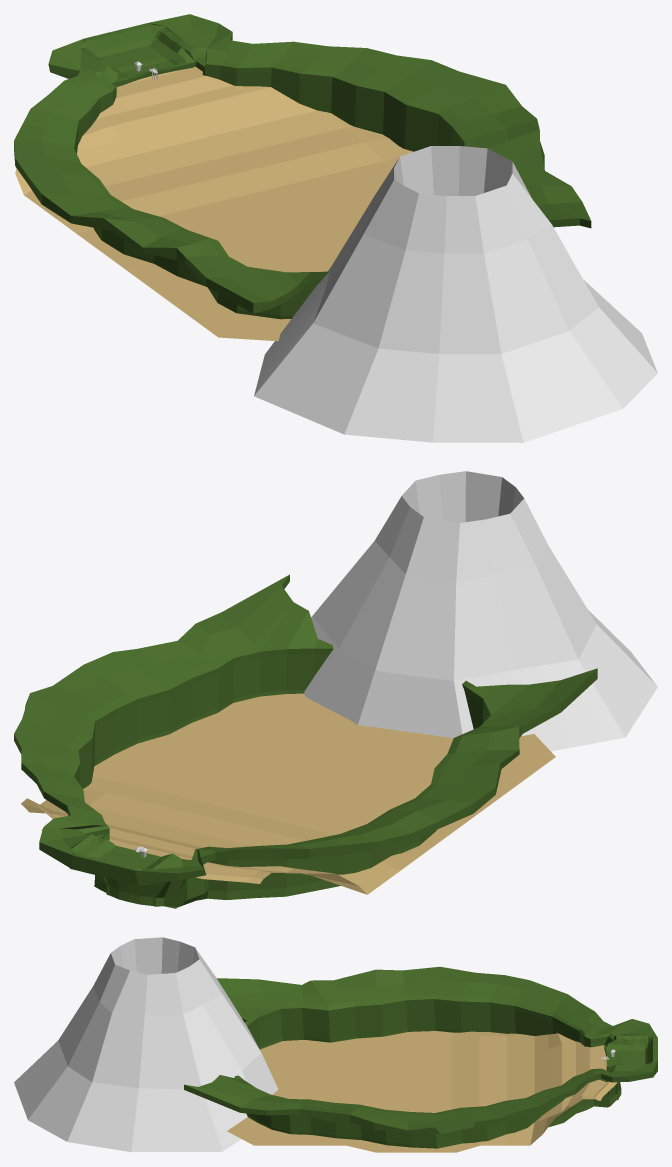
Rendered from IlhaebaTexturas.fbx.
The picture shows the model from 3 angles, top to bottom: view 1: azimuth 30°, elevation 25°; view 2: azimuth 150°, elevation 25°; view 3: azimuth 270°, elevation 25°; orthographic projection. The views are drawn at different scales.
Visible parts, largest first — view 1: Vulcao, Ilha, Chao; view 2: Ilha, Vulcao, Chao; view 3: Ilha, Vulcao, Chao.
Boxes of the visible parts, box(x1,y1,x2,y2) form: Vulcao: box(254, 146, 657, 442); Ilha: box(14, 14, 591, 319); Chao: box(15, 66, 413, 341); Ilha: box(14, 574, 597, 908); Vulcao: box(303, 471, 657, 751); Chao: box(21, 693, 555, 894); Ilha: box(184, 966, 657, 1148); Vulcao: box(14, 937, 278, 1152); Chao: box(227, 1031, 617, 1152).
Bounding box in the file's own units: 13650 × 5427 × 23212.
